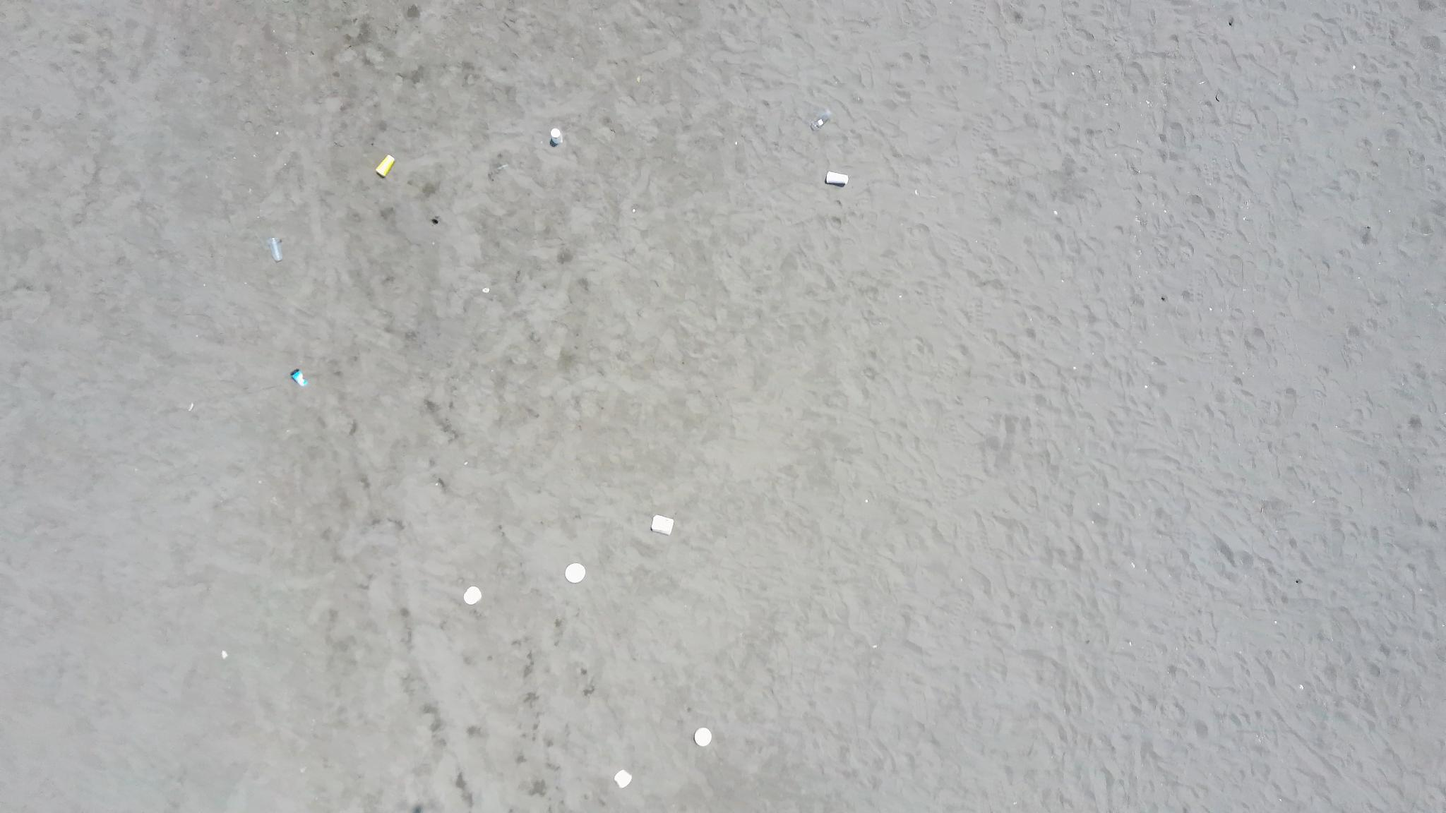Garbage: (811, 107, 832, 128), (564, 562, 585, 582), (652, 514, 673, 534), (266, 236, 281, 262), (376, 154, 393, 176), (462, 586, 481, 604), (825, 171, 847, 186), (693, 728, 712, 745), (614, 770, 631, 788), (290, 368, 306, 386), (549, 128, 561, 146), (221, 650, 227, 658)
